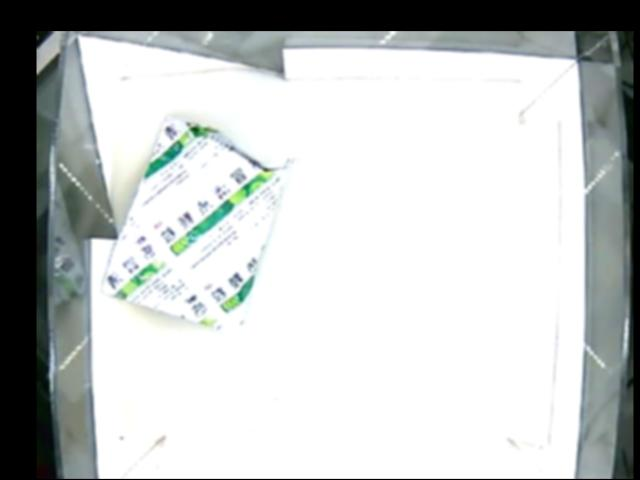Medicine: (101, 111, 301, 337)
